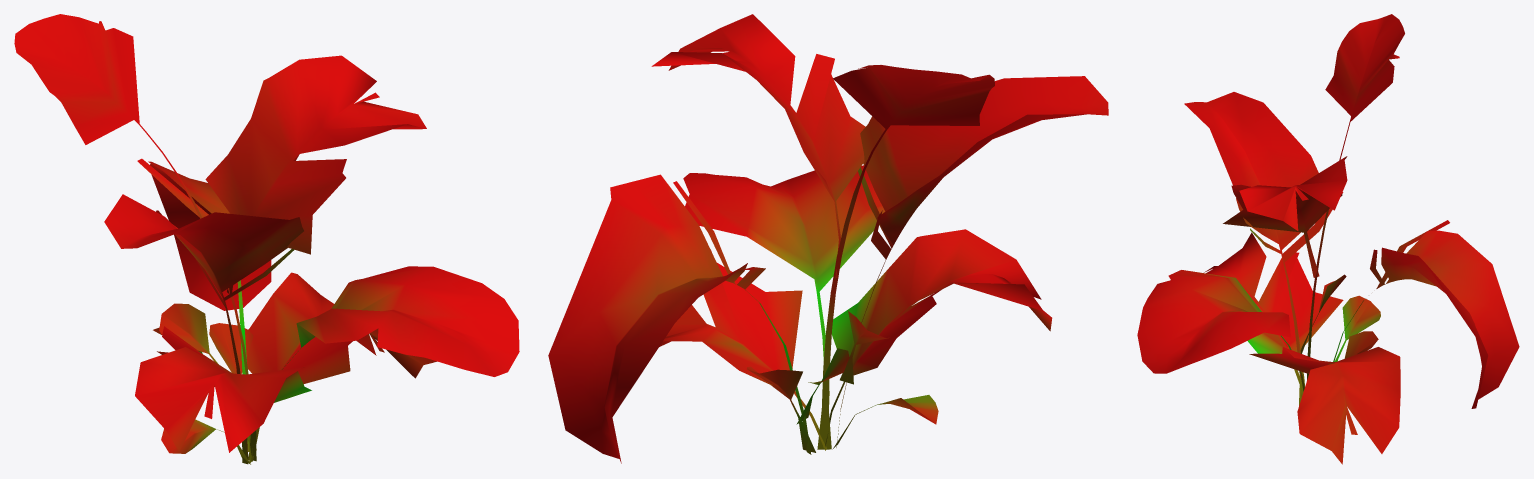
Rendered from Areca Palm_LOD2_Var2_shFjC.fbx.
3 views of the same model, side by side, from view 1: azimuth 30°, elevation 25°; view 2: azimuth 150°, elevation 25°; view 3: azimuth 270°, elevation 25° (orthographic). The views are drawn at different scales.
Visible parts, largest first — view 1: _caec_Var2_LOD2; view 2: _caec_Var2_LOD2; view 3: _caec_Var2_LOD2.
Boxes of the visible parts, x1=… form: _caec_Var2_LOD2: x1=14, y1=14, x2=519, y2=464; _caec_Var2_LOD2: x1=548, y1=14, x2=1108, y2=463; _caec_Var2_LOD2: x1=1137, y1=14, x2=1519, y2=464.
Size of the model in its own units: 120 by 129 by 135.
